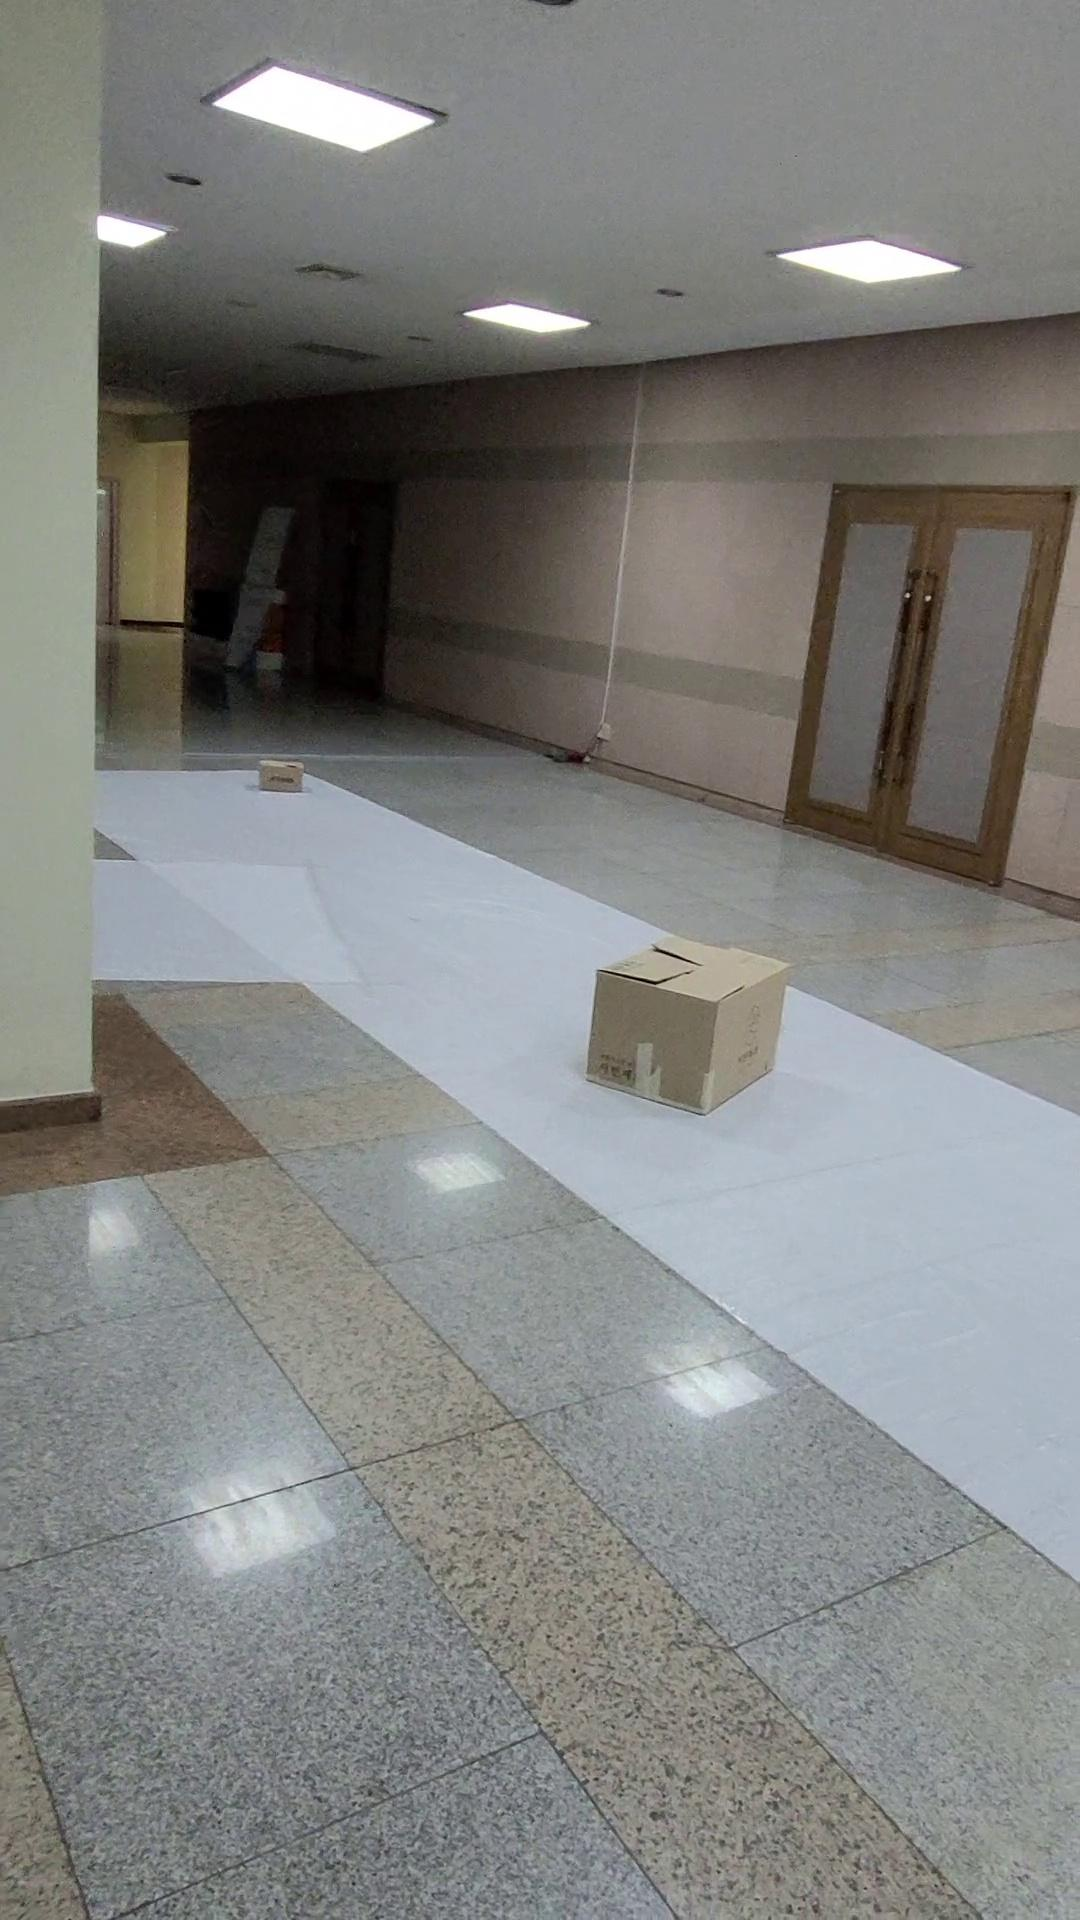Box: (518, 893, 839, 1153), (228, 740, 327, 807)
